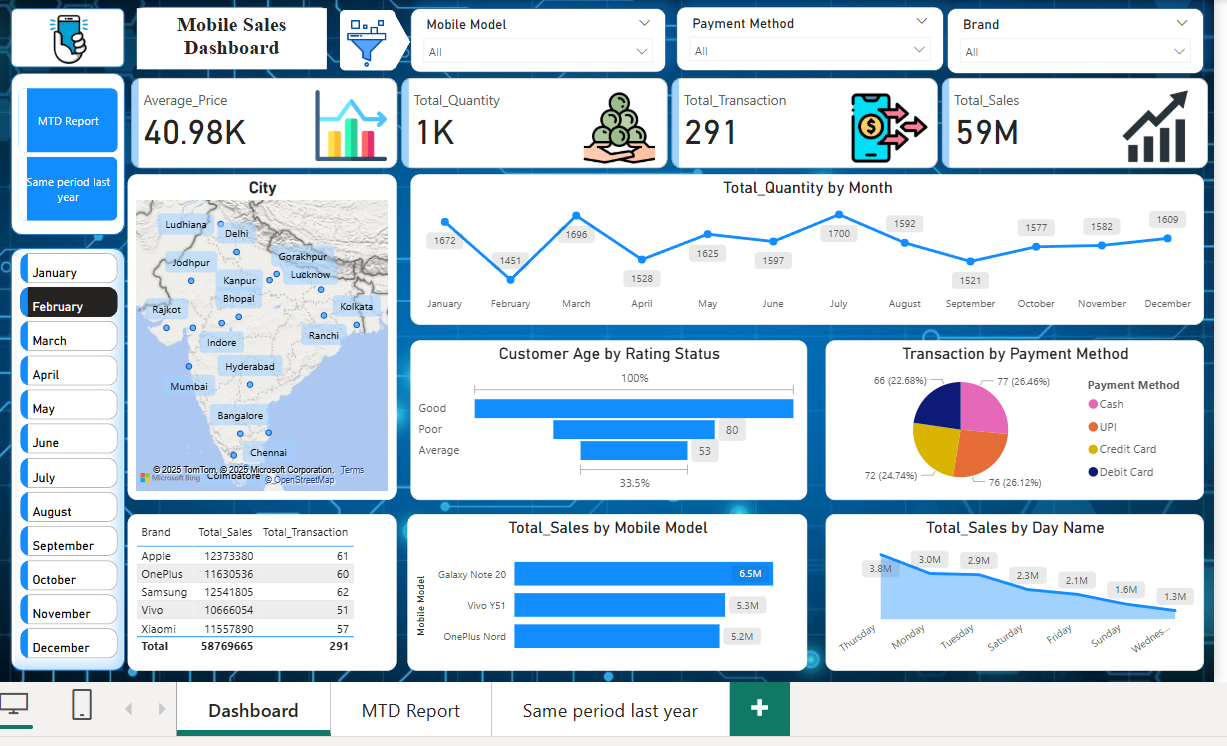

What the dashboard file says about the page in this screenshot:
{"tool":"powerbi","page":{"name":"Dashboard","canvas":[1280,720],"ordinal":0},"visuals":[{"type":"shape","box":[11.9,10.2,120.3,62.7],"z":0},{"type":"image","box":[35.6,5.1,72.9,72.9],"z":1000},{"type":"shape","box":[11.9,78,120.3,171.2],"z":2000},{"type":"shape","box":[11.9,262.7,120.3,445.8],"z":3000},{"type":"advancedSlicerVisual","fields":{"Values":["CUSTOM_CALENDER.Date.Variation.Date Hierarchy.Month"]},"box":[16.9,262.7,113.6,445.8],"z":4000},{"type":"cardVisual","fields":{"Data":["Sales_Data.Average_Price","Sales_Data.Total_Quantity","Sales_Data.Total_Transaction","Sales_Data.Toatal_Sales"]},"box":[132.2,78,1147.5,106.8],"z":5000},{"type":"slicer","fields":{"Values":["Sales_Data.Mobile Model"]},"box":[432.2,10.2,269.5,67.8],"z":6000},{"type":"slicer","fields":{"Values":["Sales_Data.Payment Method"]},"box":[713.6,8.5,281.4,67.8],"z":7000},{"type":"slicer","fields":{"Values":["Sales_Data.Brand"]},"box":[998.4,9.8,270.5,68.9],"z":8000},{"type":"shape","box":[357.6,11.9,59.3,64.4],"z":9000},{"type":"shape","box":[400,16.9,32.2,57.6],"z":10000},{"type":"image","box":[311.5,16.4,150.8,60.7],"z":11000},{"type":"shape","box":[144.1,8.5,200,66.1],"z":12000},{"type":"textbox","box":[144.1,10.2,200,64.4],"z":13000},{"type":"map","fields":{"Category":["Sales_Data.City"]},"box":[134.5,184.8,283.7,343.6],"z":14000},{"type":"lineChart","fields":{"Y":["Sales_Data.Total_Quantity"],"Category":["CUSTOM_CALENDER.Date.Variation.Date Hierarchy.Month"]},"box":[432.8,184.8,836.4,158.9],"z":15000},{"type":"funnel","title":"Customer Age by Rating Status","fields":{"Y":["CountNonNull(Sales_Data.Customer Age)"],"Category":["Sales_Data.Rating Status"]},"box":[432.8,359.8,418.2,168.6],"z":16000},{"type":"pieChart","title":"Transaction by Payment Method","fields":{"Y":["Sales_Data.Total_Transaction"],"Category":["Sales_Data.Payment Method"]},"box":[870.4,359.8,398.8,168.6],"z":17000},{"type":"clusteredBarChart","fields":{"Category":["Sales_Data.Mobile Model"],"Y":["Sales_Data.Total_Sales"]},"box":[429.5,543,421.4,165.3],"z":18000},{"type":"areaChart","fields":{"Category":["CUSTOM_CALENDER.Day Name"],"Y":["Sales_Data.Total_Sales"]},"box":[870.4,543,398.8,165.3],"z":19000},{"type":"tableEx","fields":{"Values":["Sales_Data.Brand","Sales_Data.Total_Sales","Sales_Data.Total_Transaction"]},"box":[134.5,543,283.7,165.3],"z":20000},{"type":"pageNavigator","box":[19.5,94,105.4,141],"z":21000}]}

Visuals, with their boxes in screenshot pixels (x1, y1, x2, y2):
shape: <box>8,6,122,66</box>
image: <box>30,2,99,71</box>
shape: <box>8,71,122,232</box>
shape: <box>8,245,122,667</box>
advancedSlicerVisual - CUSTOM_CALENDER.Date.Variation.Date Hierarchy.Month: <box>13,245,120,667</box>
cardVisual - Sales_Data.Average_Price x Sales_Data.Total_Quantity: <box>122,71,1207,171</box>
slicer - Sales_Data.Mobile Model: <box>405,6,660,71</box>
slicer - Sales_Data.Payment Method: <box>671,5,937,69</box>
slicer - Sales_Data.Brand: <box>941,6,1196,71</box>
shape: <box>335,8,391,69</box>
shape: <box>375,13,405,67</box>
image: <box>291,12,434,70</box>
shape: <box>133,5,322,67</box>
textbox: <box>133,6,322,67</box>
map - Sales_Data.City: <box>124,171,392,496</box>
lineChart - Sales_Data.Total_Quantity x CUSTOM_CALENDER.Date.Variation.Date Hierarchy.Month: <box>406,171,1197,322</box>
"Customer Age by Rating Status" funnel: <box>406,337,801,496</box>
"Transaction by Payment Method" pieChart: <box>820,337,1197,496</box>
clusteredBarChart - Sales_Data.Mobile Model x Sales_Data.Total_Sales: <box>403,510,801,666</box>
areaChart - CUSTOM_CALENDER.Day Name x Sales_Data.Total_Sales: <box>820,510,1197,666</box>
tableEx - Sales_Data.Brand x Sales_Data.Total_Sales: <box>124,510,392,666</box>
pageNavigator: <box>15,86,115,219</box>
